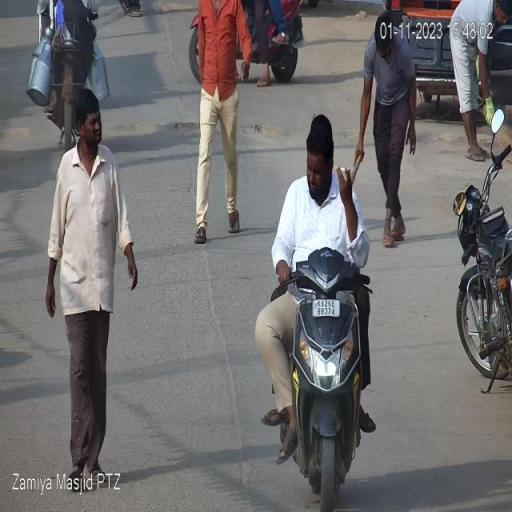using mobile: (333, 157, 358, 185)
